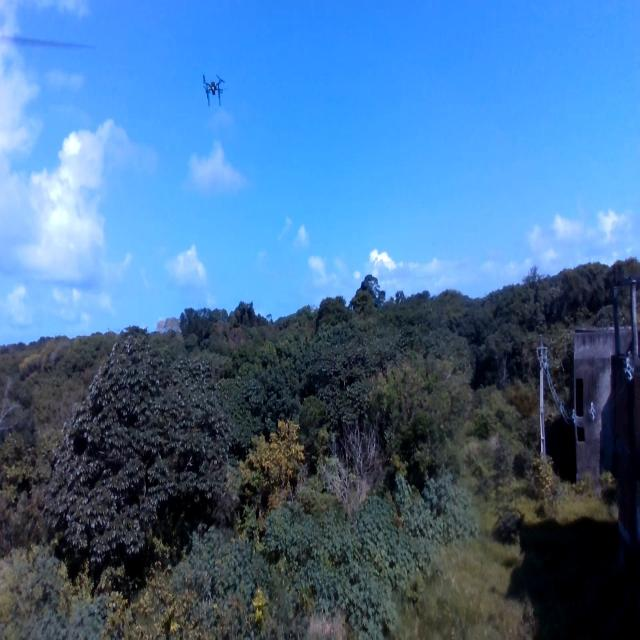-uav-: (196, 67, 232, 120)
